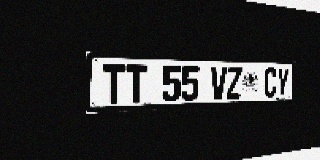5: (162, 65, 181, 102), (181, 66, 199, 101)
C: (263, 68, 277, 98)
T: (103, 64, 125, 104), (126, 64, 147, 103)
V: (210, 66, 227, 100)
Y: (276, 68, 289, 97)
Z: (226, 67, 242, 99)
